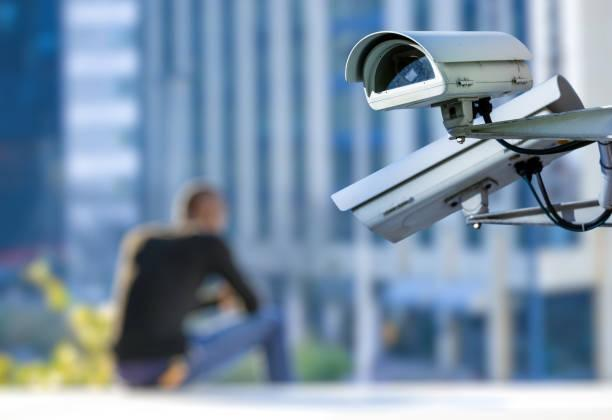------------------------------: (341, 21, 534, 104)
